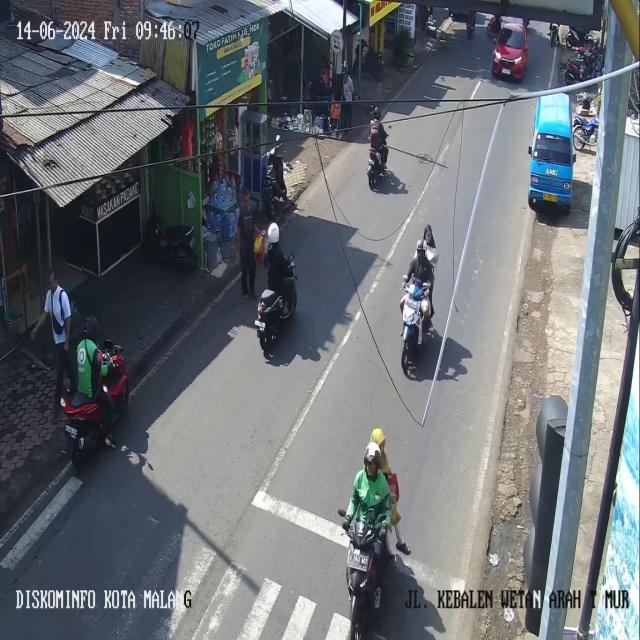Helmet: (364, 442, 380, 470), (83, 316, 97, 340), (370, 427, 384, 446), (268, 222, 279, 243), (417, 239, 426, 251), (372, 107, 380, 119)
Number Plate: (347, 549, 368, 570), (406, 298, 419, 309), (65, 425, 76, 437), (543, 193, 557, 202), (254, 320, 265, 330), (502, 68, 511, 74)
Rearview Mirror: (275, 134, 280, 142), (528, 145, 531, 154), (573, 153, 576, 162)
